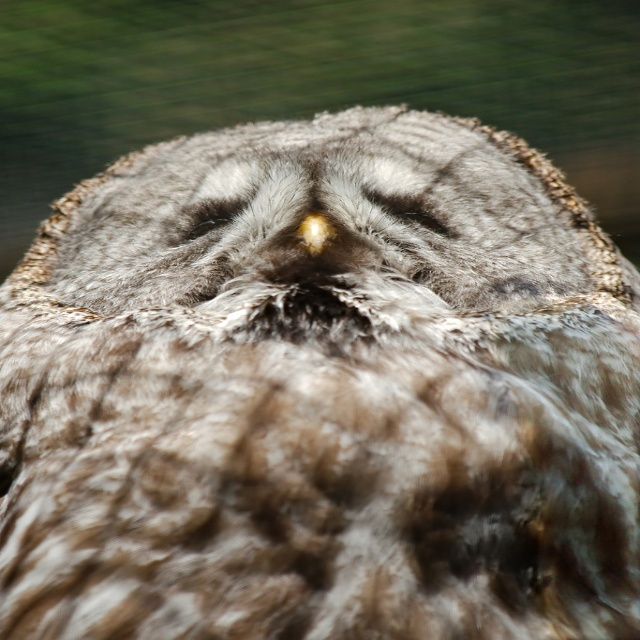Owl: (0, 102, 639, 640)
